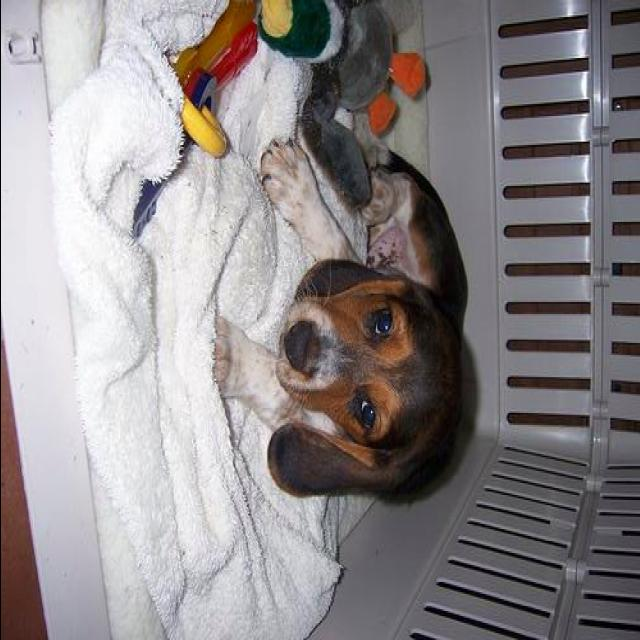beagle: (202, 126, 480, 508)
